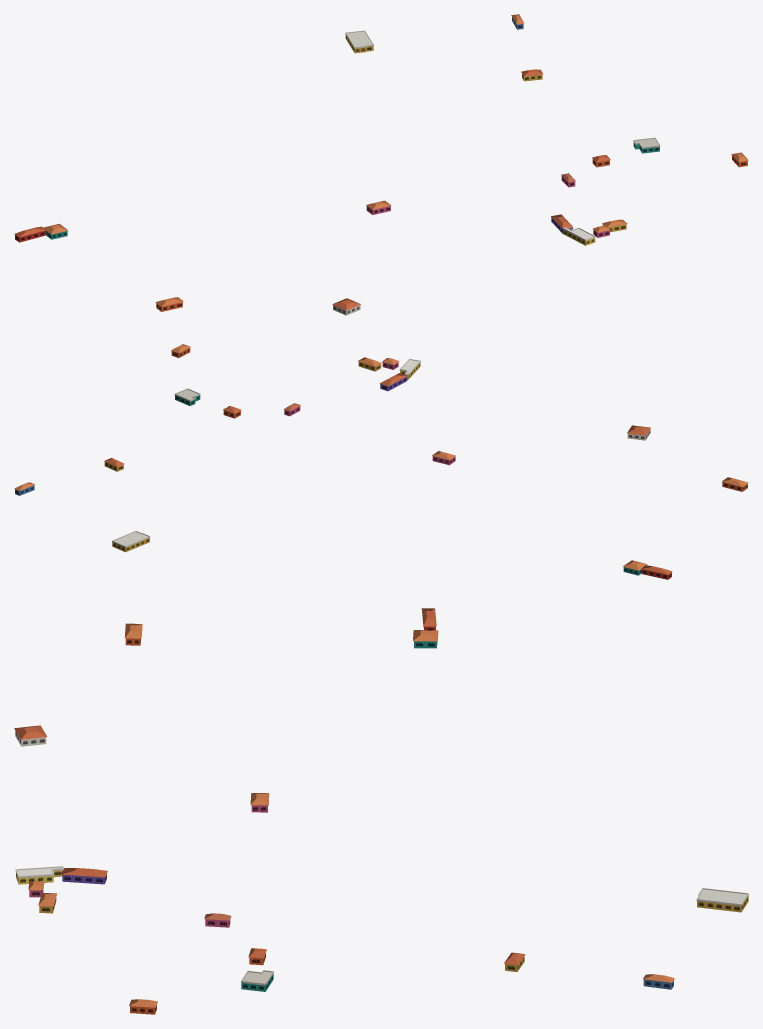
Rendered from msb_oranjestad_m12_0.glb.
The picture shows the model from 3 angles, top to bottom: view 1: azimuth 30°, elevation 25°; view 2: azimuth 150°, elevation 25°; view 3: azimuth 270°, elevation 25°; orthographic projection. The views are drawn at different scales.
Visible parts, largest first — view 1: msb_oranjestad_m12_0_lod0; view 2: msb_oranjestad_m12_0_lod0; view 3: msb_oranjestad_m12_0_lod0.
Boxes of the visible parts, left/top/right/bottom form: msb_oranjestad_m12_0_lod0: left=14, top=14, right=748, bottom=315; msb_oranjestad_m12_0_lod0: left=14, top=344, right=748, bottom=579; msb_oranjestad_m12_0_lod0: left=14, top=608, right=748, bottom=1014.
Size of what is drawn, in the model's own units: 411 by 13.81 by 314.
3 materials, 1 textured.
